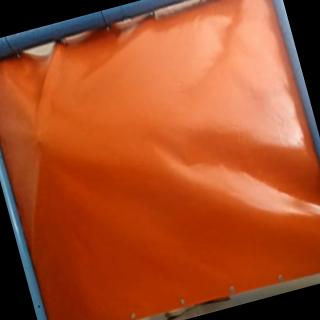Hit-hRxx: (30, 130, 43, 150)
